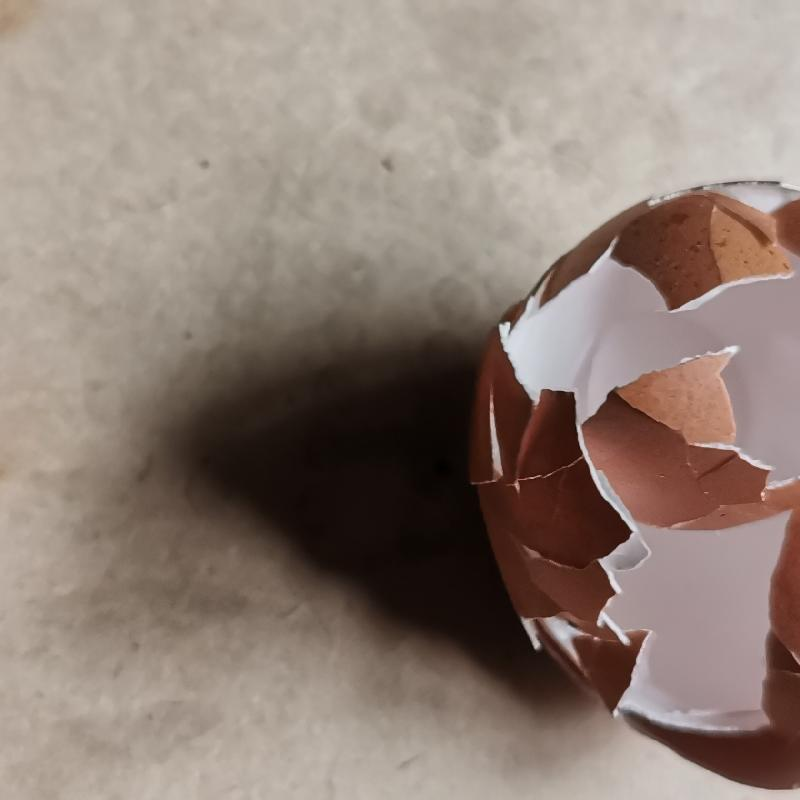eggshell: (465, 178, 800, 790)
